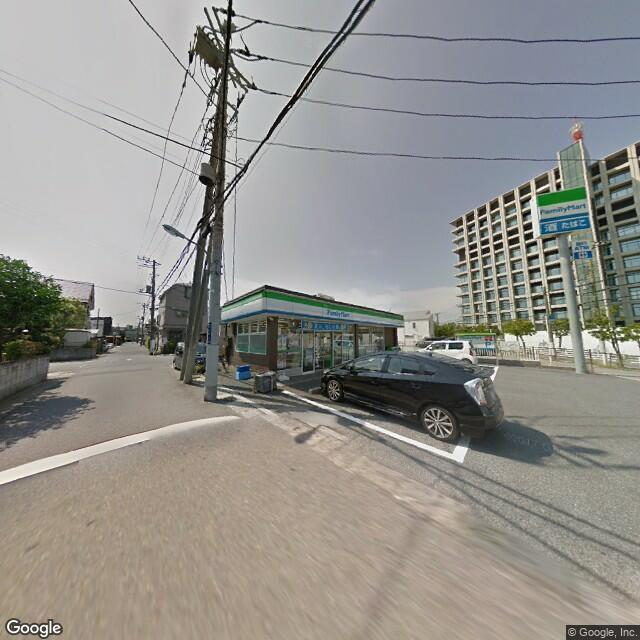family_mart: (219, 289, 404, 331), (536, 183, 590, 227)
